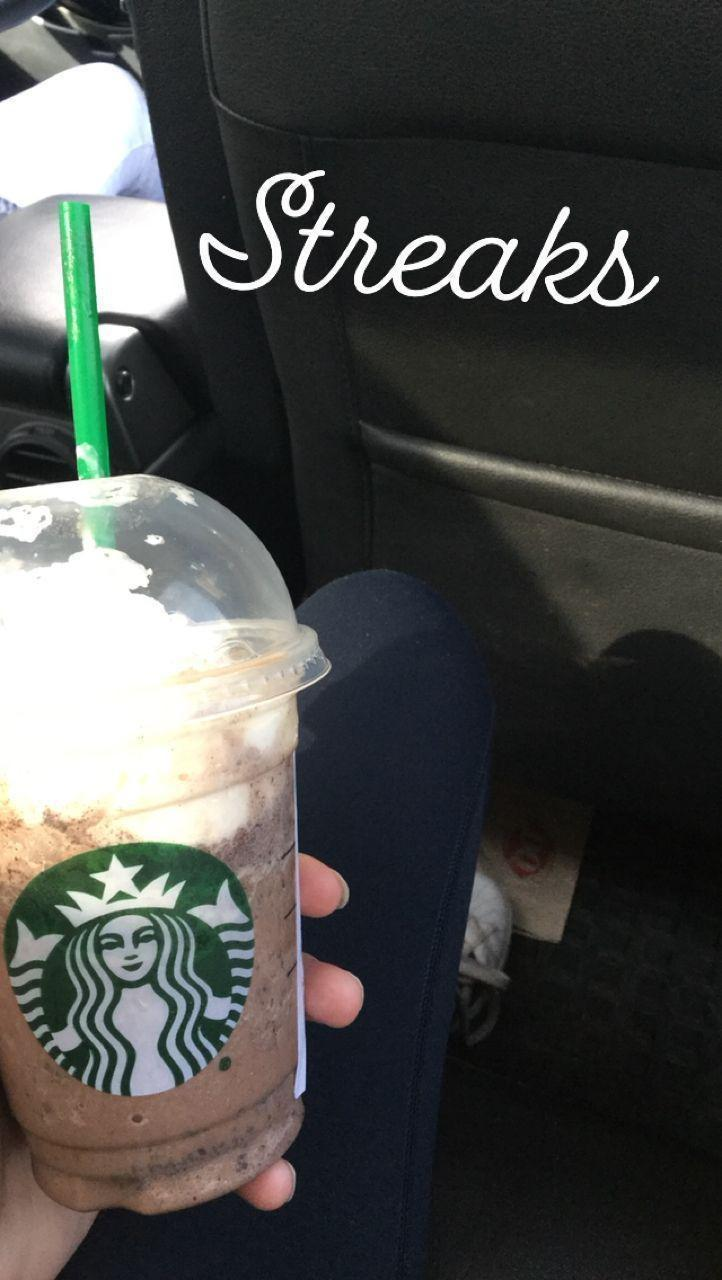cup-disposable: (1, 464, 332, 1217)
